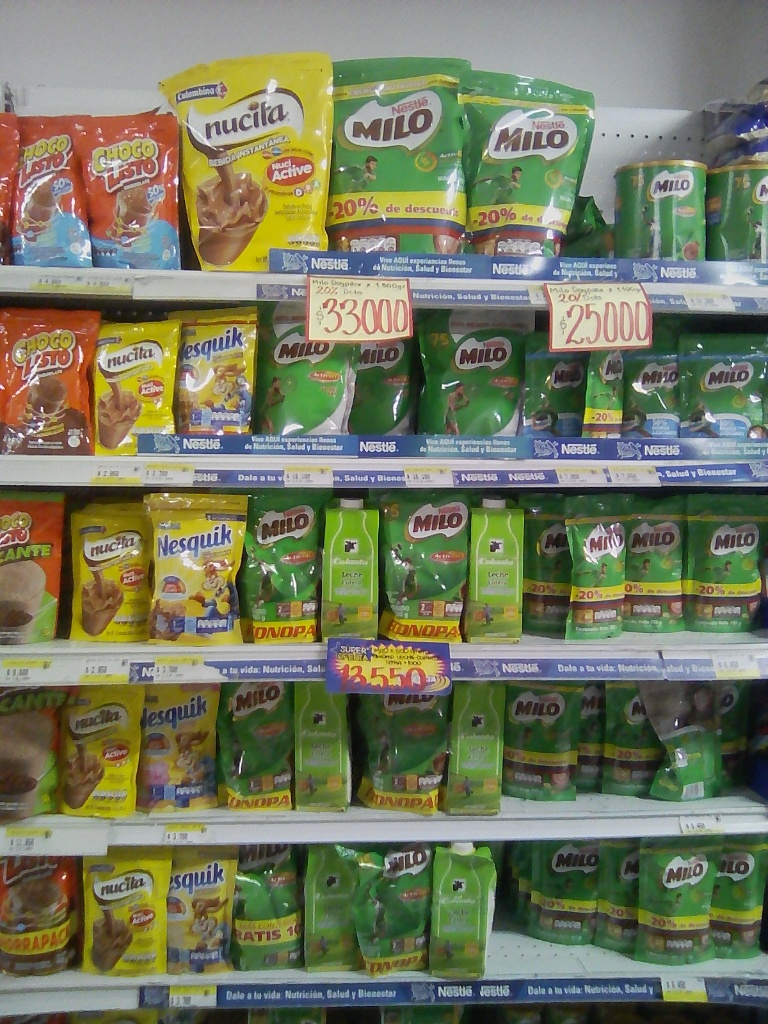COL0170102DYP25000: (0, 494, 71, 640)
COL0170102DYP50000: (0, 689, 63, 825)
COL0170103DYP20000: (0, 310, 101, 456)
COL0170103DYP36000: (1, 852, 73, 974)
COL0170104DYP20000: (1, 118, 91, 268)
COL0170203DYP25000: (507, 676, 584, 802)
COL0170203DYP50000: (219, 689, 292, 805)
COL0170205DYP20000: (525, 331, 587, 453)
COL0170205DYP50000: (256, 323, 360, 442)
COL0170303DYP20000: (141, 486, 243, 647)
COL0170305DYP20000: (138, 682, 218, 815)
COL0170306DYP20000: (173, 843, 237, 976)
